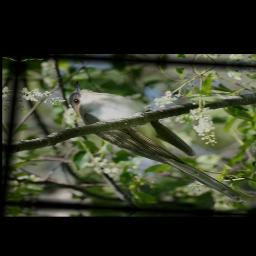Cuckoo: (56, 79, 256, 205)
